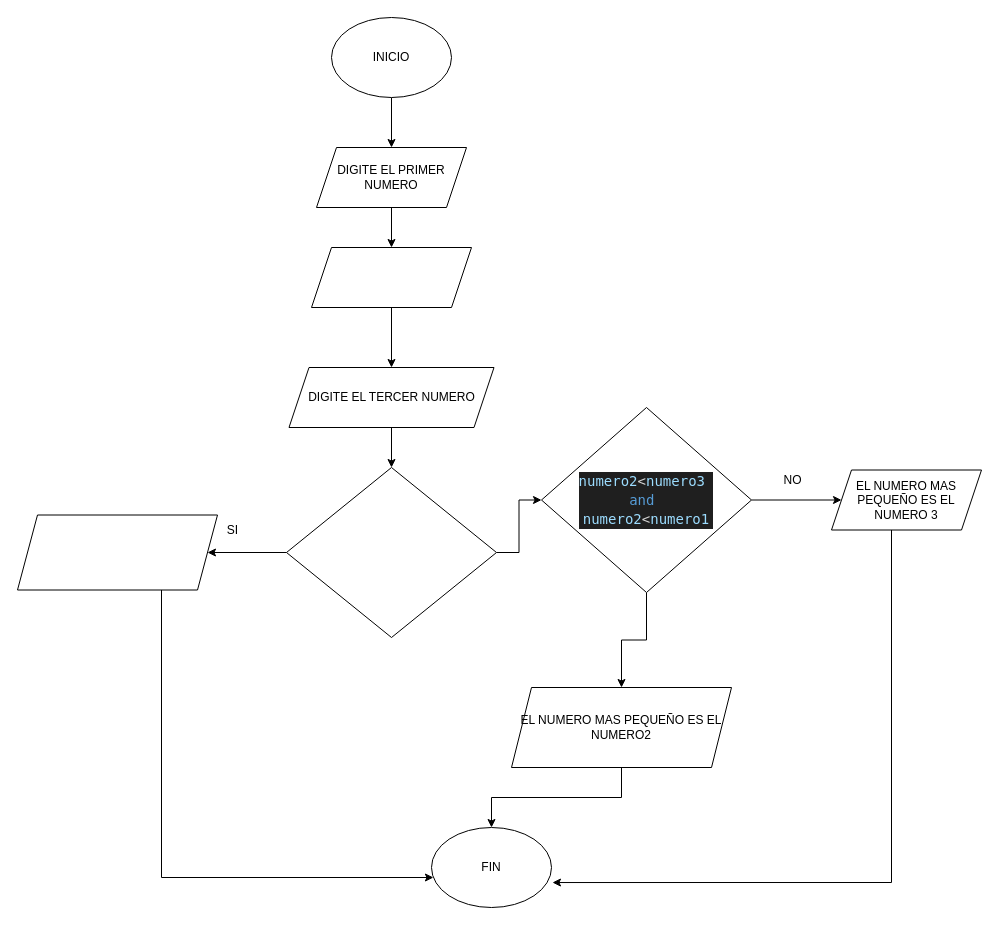
Image size: 999x925. Some labels were removed from this diagram. The shapes that lost their labels are listed below. From the top down, each one's centre as x and y in pixels, then its label:
At (391,277): "DIGITE EL SEGUNDO NUMERO".
At (117,552): "EL NUMERO MAS PEQUEÑO ES NUMERO1".
At (391,552): "umero1 < numero2 and numero1 < numero3".
